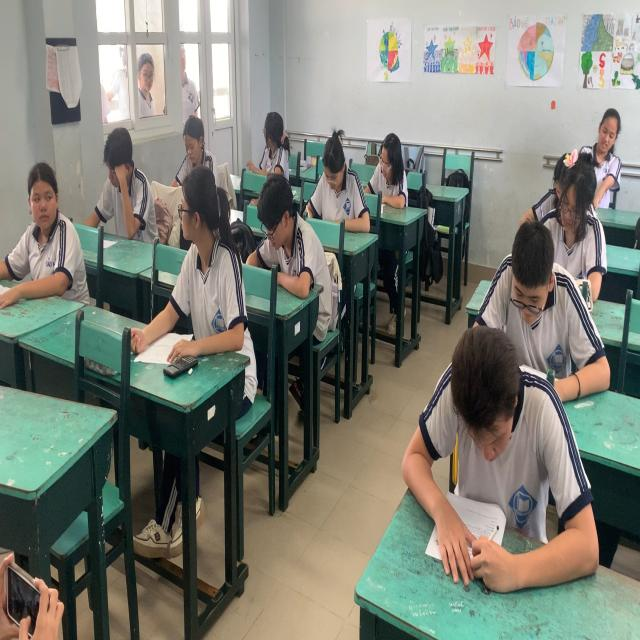cheating: (0, 132, 124, 354), (156, 149, 266, 387)
not_cheating: (425, 355, 546, 558), (226, 141, 325, 341), (80, 83, 172, 265), (496, 204, 572, 380), (303, 102, 389, 255), (351, 96, 436, 245), (148, 75, 234, 218), (549, 102, 613, 286), (231, 58, 312, 198)
